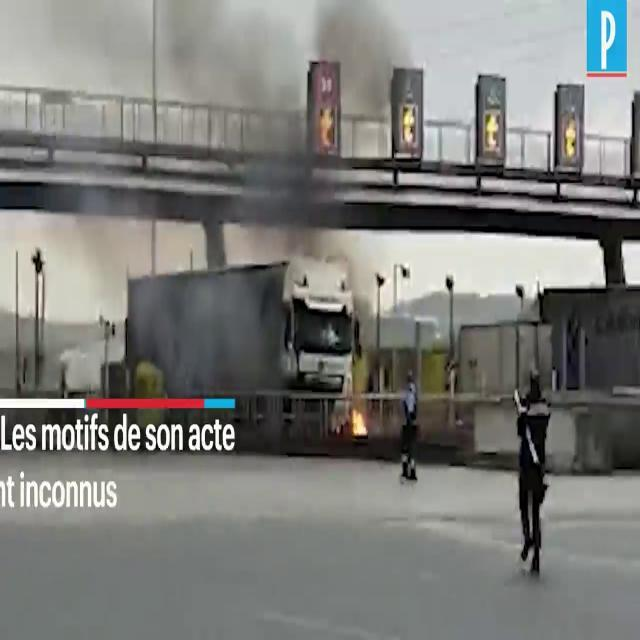Fire: (346, 396, 370, 442)
Smoke: (52, 0, 341, 262), (141, 240, 293, 400)
